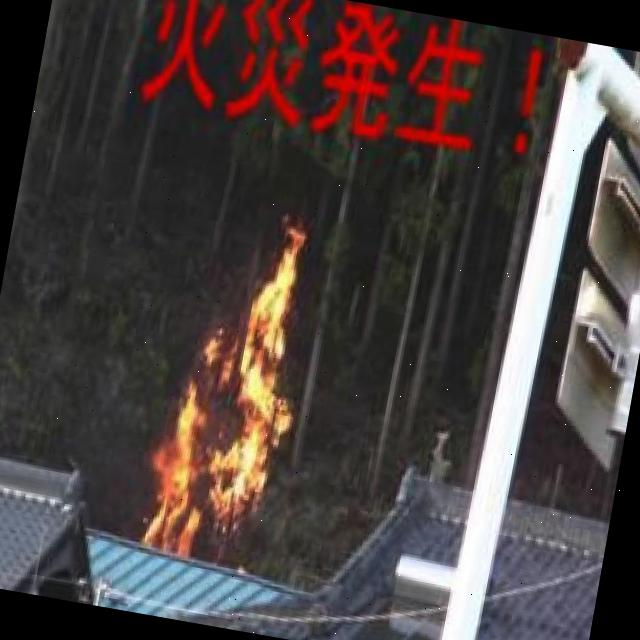fire: (141, 202, 339, 580)
